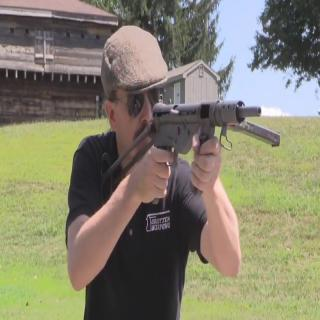gun: (137, 85, 281, 196)
